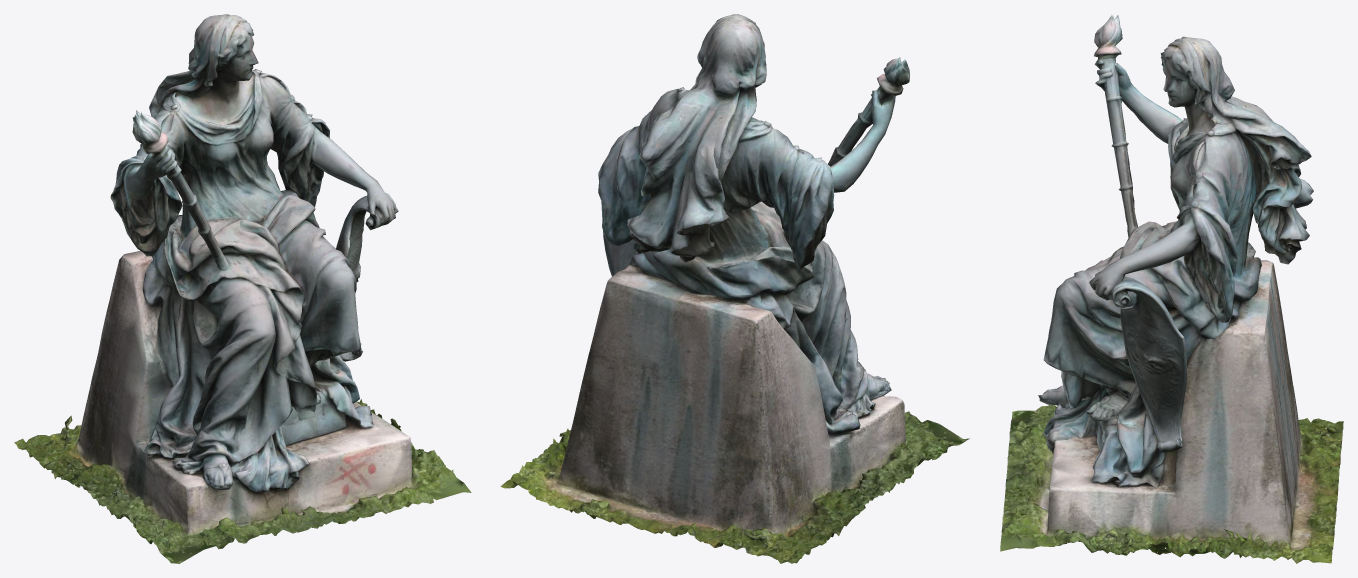
Rendered from deco_estatua.glb.
The picture shows the model from 3 angles, left to right: view 1: azimuth 30°, elevation 25°; view 2: azimuth 150°, elevation 25°; view 3: azimuth 270°, elevation 25°; orthographic projection.
Visible parts, largest first — view 1: socha_tolerance; view 2: socha_tolerance; view 3: socha_tolerance.
Boxes of the visible parts, box(x1,y1,x2,y2) form: socha_tolerance: box(14, 14, 471, 563); socha_tolerance: box(500, 14, 969, 563); socha_tolerance: box(1000, 14, 1343, 563).
Size of the model in its own units: 1.84 by 2.65 by 1.81.
1 material, 1 textured.
